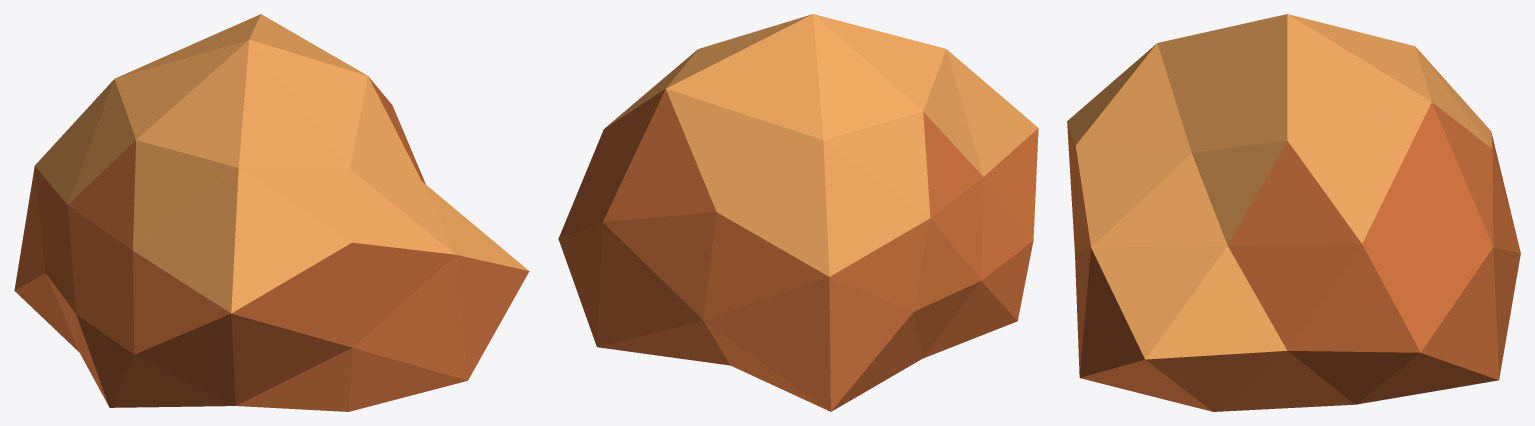
The model's file is CA_Roca_Pequena_A.obj.
The picture shows the model from 3 angles, left to right: view 1: azimuth 30°, elevation 25°; view 2: azimuth 150°, elevation 25°; view 3: azimuth 270°, elevation 25°; orthographic projection. The views are drawn at different scales.
Parts seen in each view (by area): view 1: CA_Roca_Pequena_A; view 2: CA_Roca_Pequena_A; view 3: CA_Roca_Pequena_A.
Boxes of the visible parts, x1,y1,x2,y2 form: CA_Roca_Pequena_A: [14, 14, 529, 411]; CA_Roca_Pequena_A: [558, 14, 1038, 411]; CA_Roca_Pequena_A: [1067, 14, 1520, 411].
Size of the model in its own units: 1.05 by 0.7811 by 1.04.
